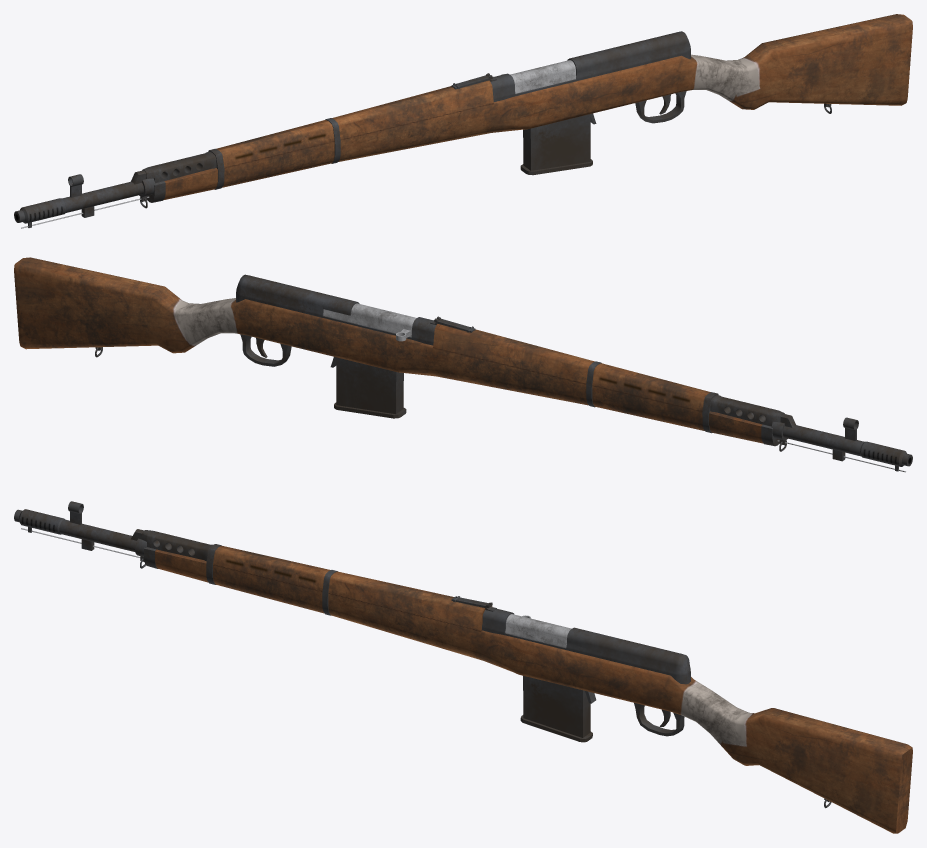
3 renders of one model, top to bottom at view 1: azimuth 30°, elevation 25°; view 2: azimuth 150°, elevation 25°; view 3: azimuth 330°, elevation 25°, orthographic.
Parts seen in each view (by area): view 1: Body, Box, Ammo, Barrel, Shutter_Shutter_0, FlameCutter, TriggerHolder; view 2: Body, Box, Ammo, Barrel, Shutter_Shutter_0, FlameCutter, TriggerHolder; view 3: Body, Box, Ammo, Barrel, Shutter_Shutter_0, FlameCutter.
Part boxes in pixels (left/top/right/bottom): Body: left=163, top=14, right=912, bottom=200; Box: left=490, top=31, right=690, bottom=101; Ammo: left=520, top=114, right=592, bottom=175; Barrel: left=14, top=181, right=143, bottom=223; Shutter_Shutter_0: left=501, top=60, right=576, bottom=93; FlameCutter: left=142, top=151, right=216, bottom=183; TriggerHolder: left=635, top=91, right=686, bottom=123; Body: left=14, top=257, right=763, bottom=443; Box: left=236, top=274, right=436, bottom=345; Ammo: left=334, top=357, right=406, bottom=418; Barrel: left=783, top=425, right=912, bottom=466; Shutter_Shutter_0: left=323, top=303, right=416, bottom=341; FlameCutter: left=710, top=395, right=784, bottom=426; TriggerHolder: left=240, top=334, right=291, bottom=366; Body: left=155, top=546, right=912, bottom=833; Box: left=482, top=609, right=690, bottom=684; Ammo: left=520, top=676, right=592, bottom=742; Barrel: left=14, top=509, right=136, bottom=551; Shutter_Shutter_0: left=505, top=614, right=571, bottom=647; FlameCutter: left=141, top=530, right=212, bottom=561.
Size of the model in its own units: 0.0068 by 0.000933 by 0.000257.
Materials: 6 (6 with a texture image).
